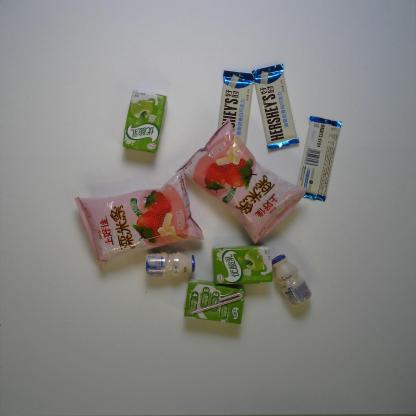Chocolate: (251, 61, 301, 150), (295, 114, 344, 203), (215, 70, 256, 147)
Milk: (181, 278, 246, 326), (121, 89, 168, 154), (210, 243, 274, 286), (270, 252, 313, 308), (144, 249, 196, 280)
Puffed Food: (173, 117, 311, 247), (74, 166, 205, 274)
